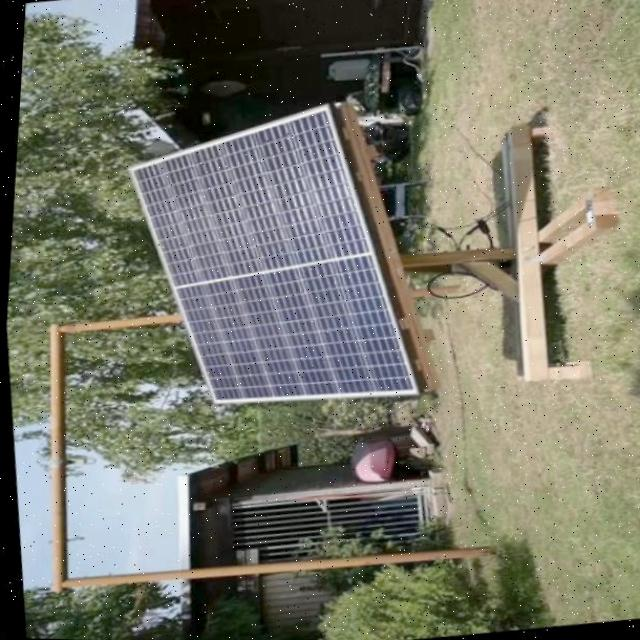Normal Solar Panel: (110, 97, 428, 431)
